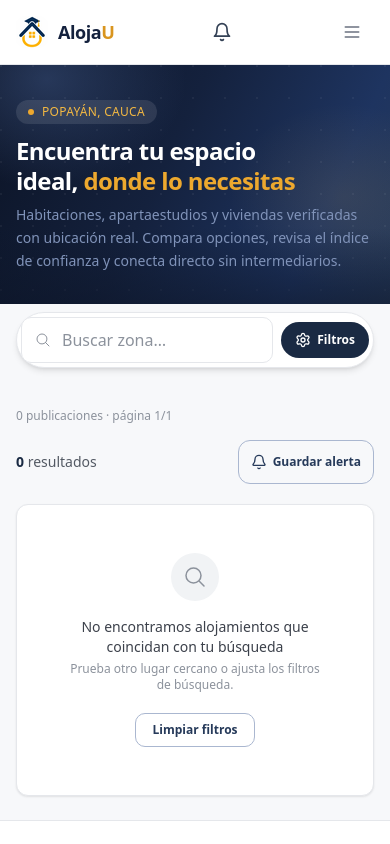
Test: Nav Mis publicaciones dinámico (0 pubs oculto, 1+ visible) › Usuario Base con 0 avisos: sin Mis publicaciones pero con + Publicar
The width and height of the screenshot is (390, 844).
Check: the heading "Encuentra tu espacio ideal, donde lo necesitas" is shown, box [16, 134, 295, 197]
Click the button named "Abrir menú": (352, 32) [330, 10, 374, 54]
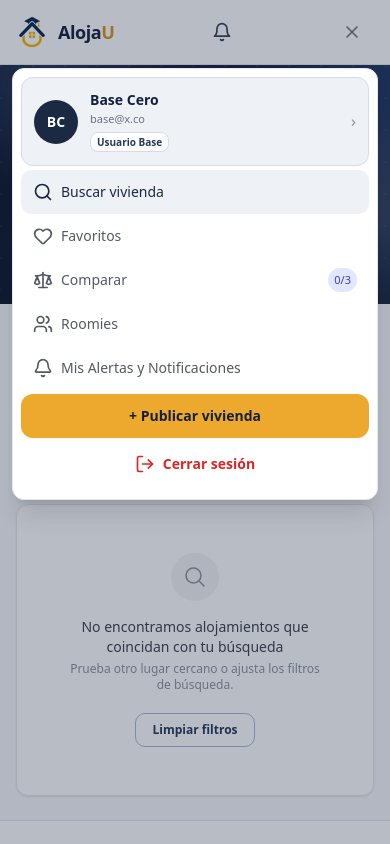
Check: the link "+ Publicar vivienda" is shown, box [21, 394, 369, 438]
